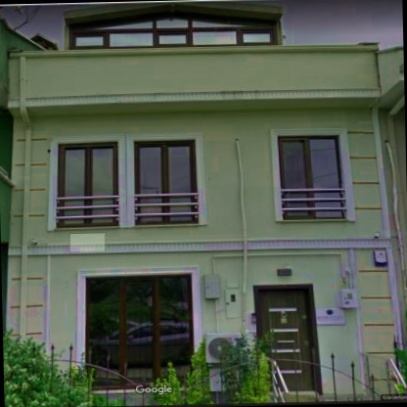door: (254, 284, 317, 391)
